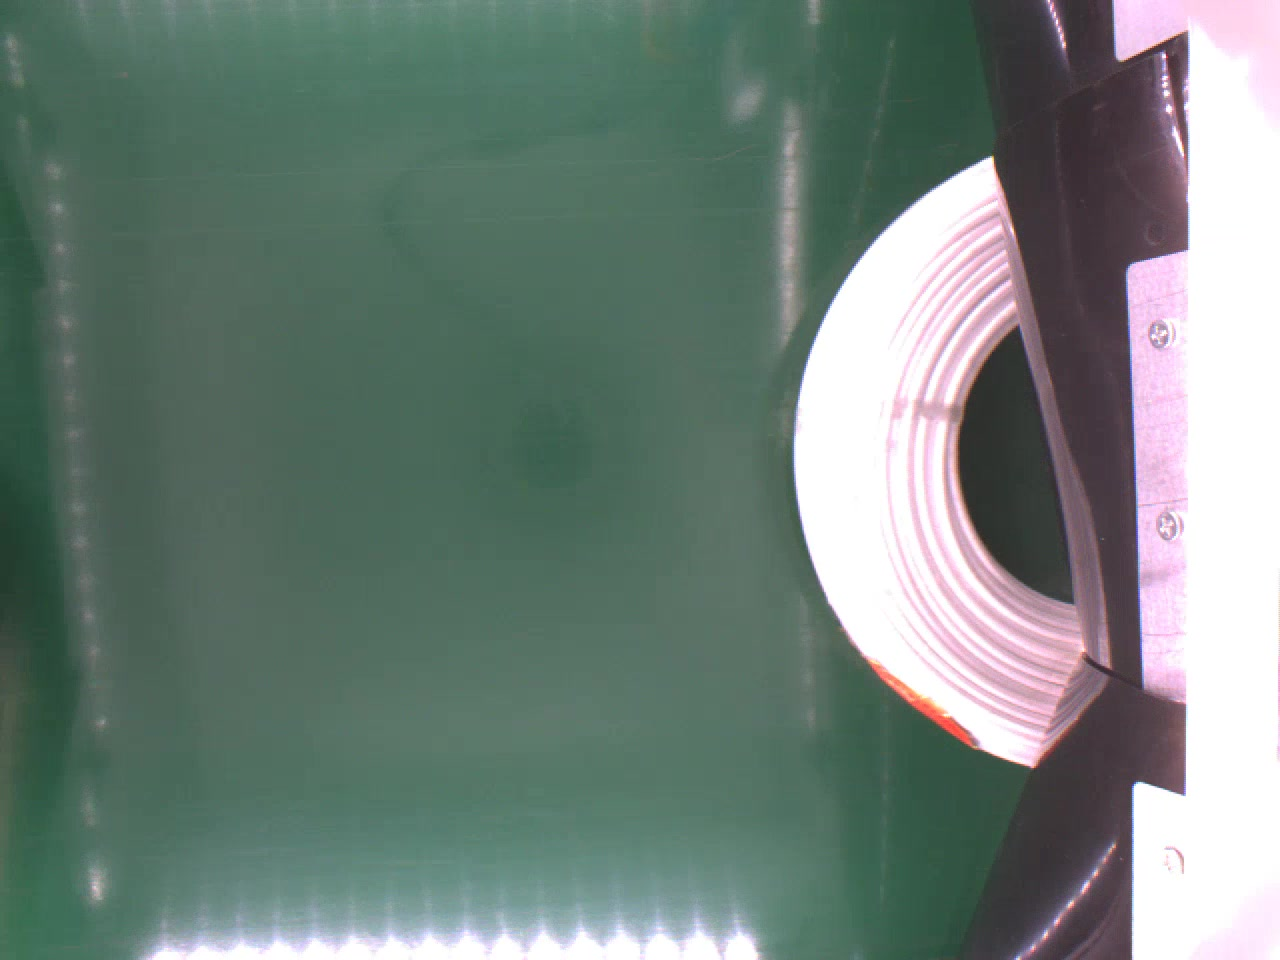white: (783, 151, 1082, 772)
